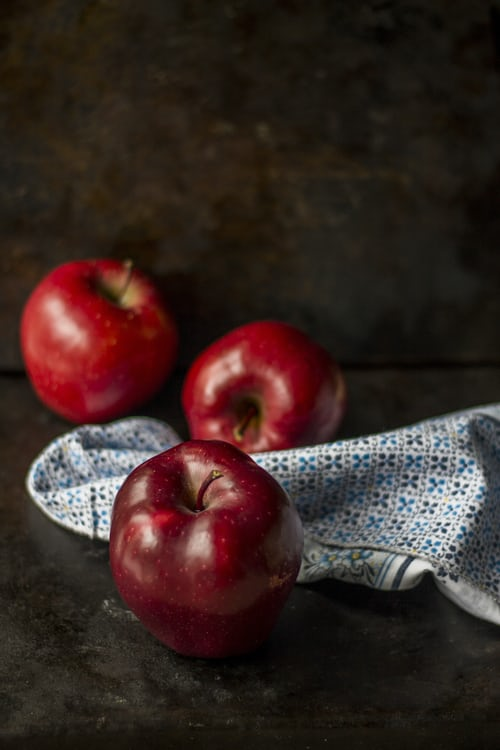apple: (107, 437, 306, 667), (19, 254, 179, 422), (178, 317, 347, 458)
